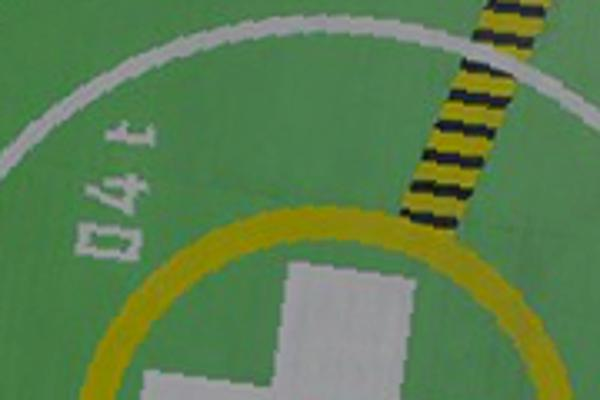Apron: (90, 193, 569, 400)
